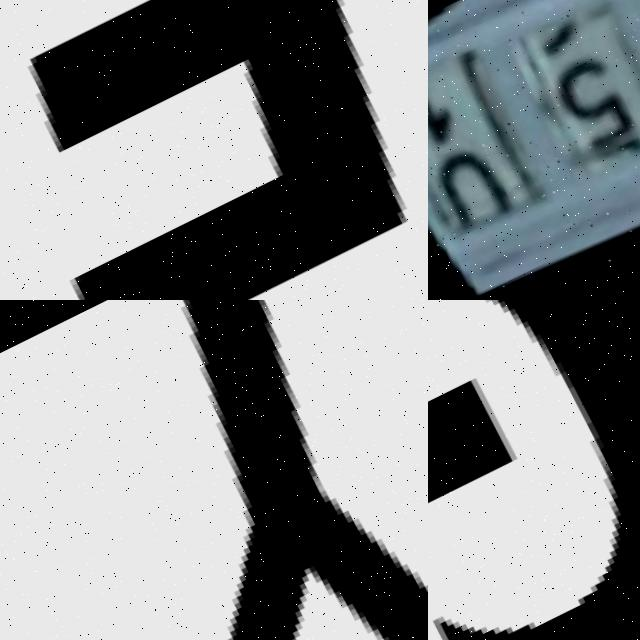0: (428, 133, 529, 252)
1: (428, 52, 481, 160)
5: (528, 35, 640, 177)
E: (28, 0, 399, 300)
G: (428, 300, 640, 640)
Y: (0, 300, 428, 640)
